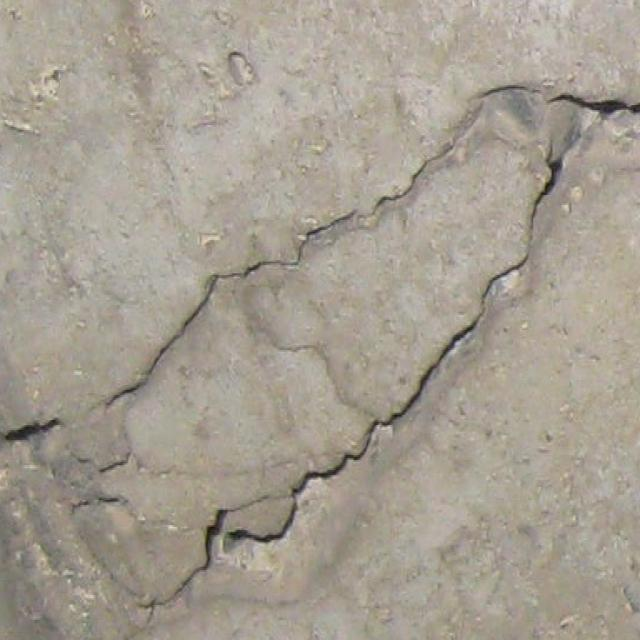crack: (323, 192, 559, 487), (136, 222, 322, 384)
spall: (1, 384, 322, 638), (410, 79, 639, 192)
